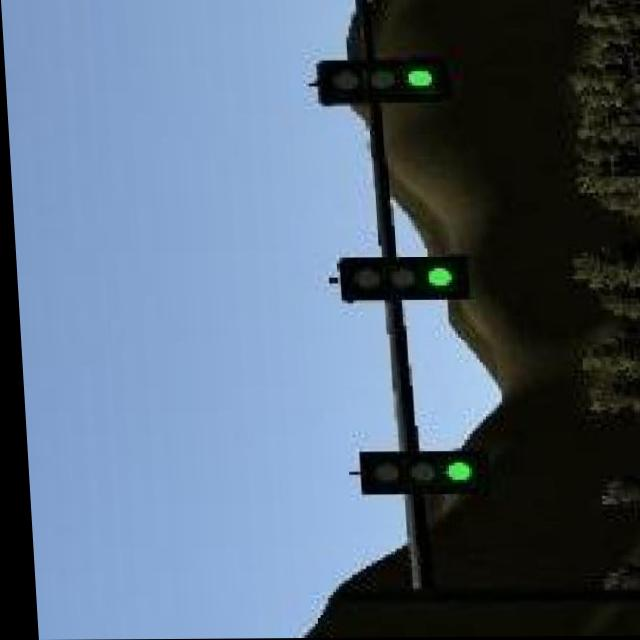green light: (332, 257, 468, 301), (317, 60, 442, 101), (352, 454, 482, 492)
